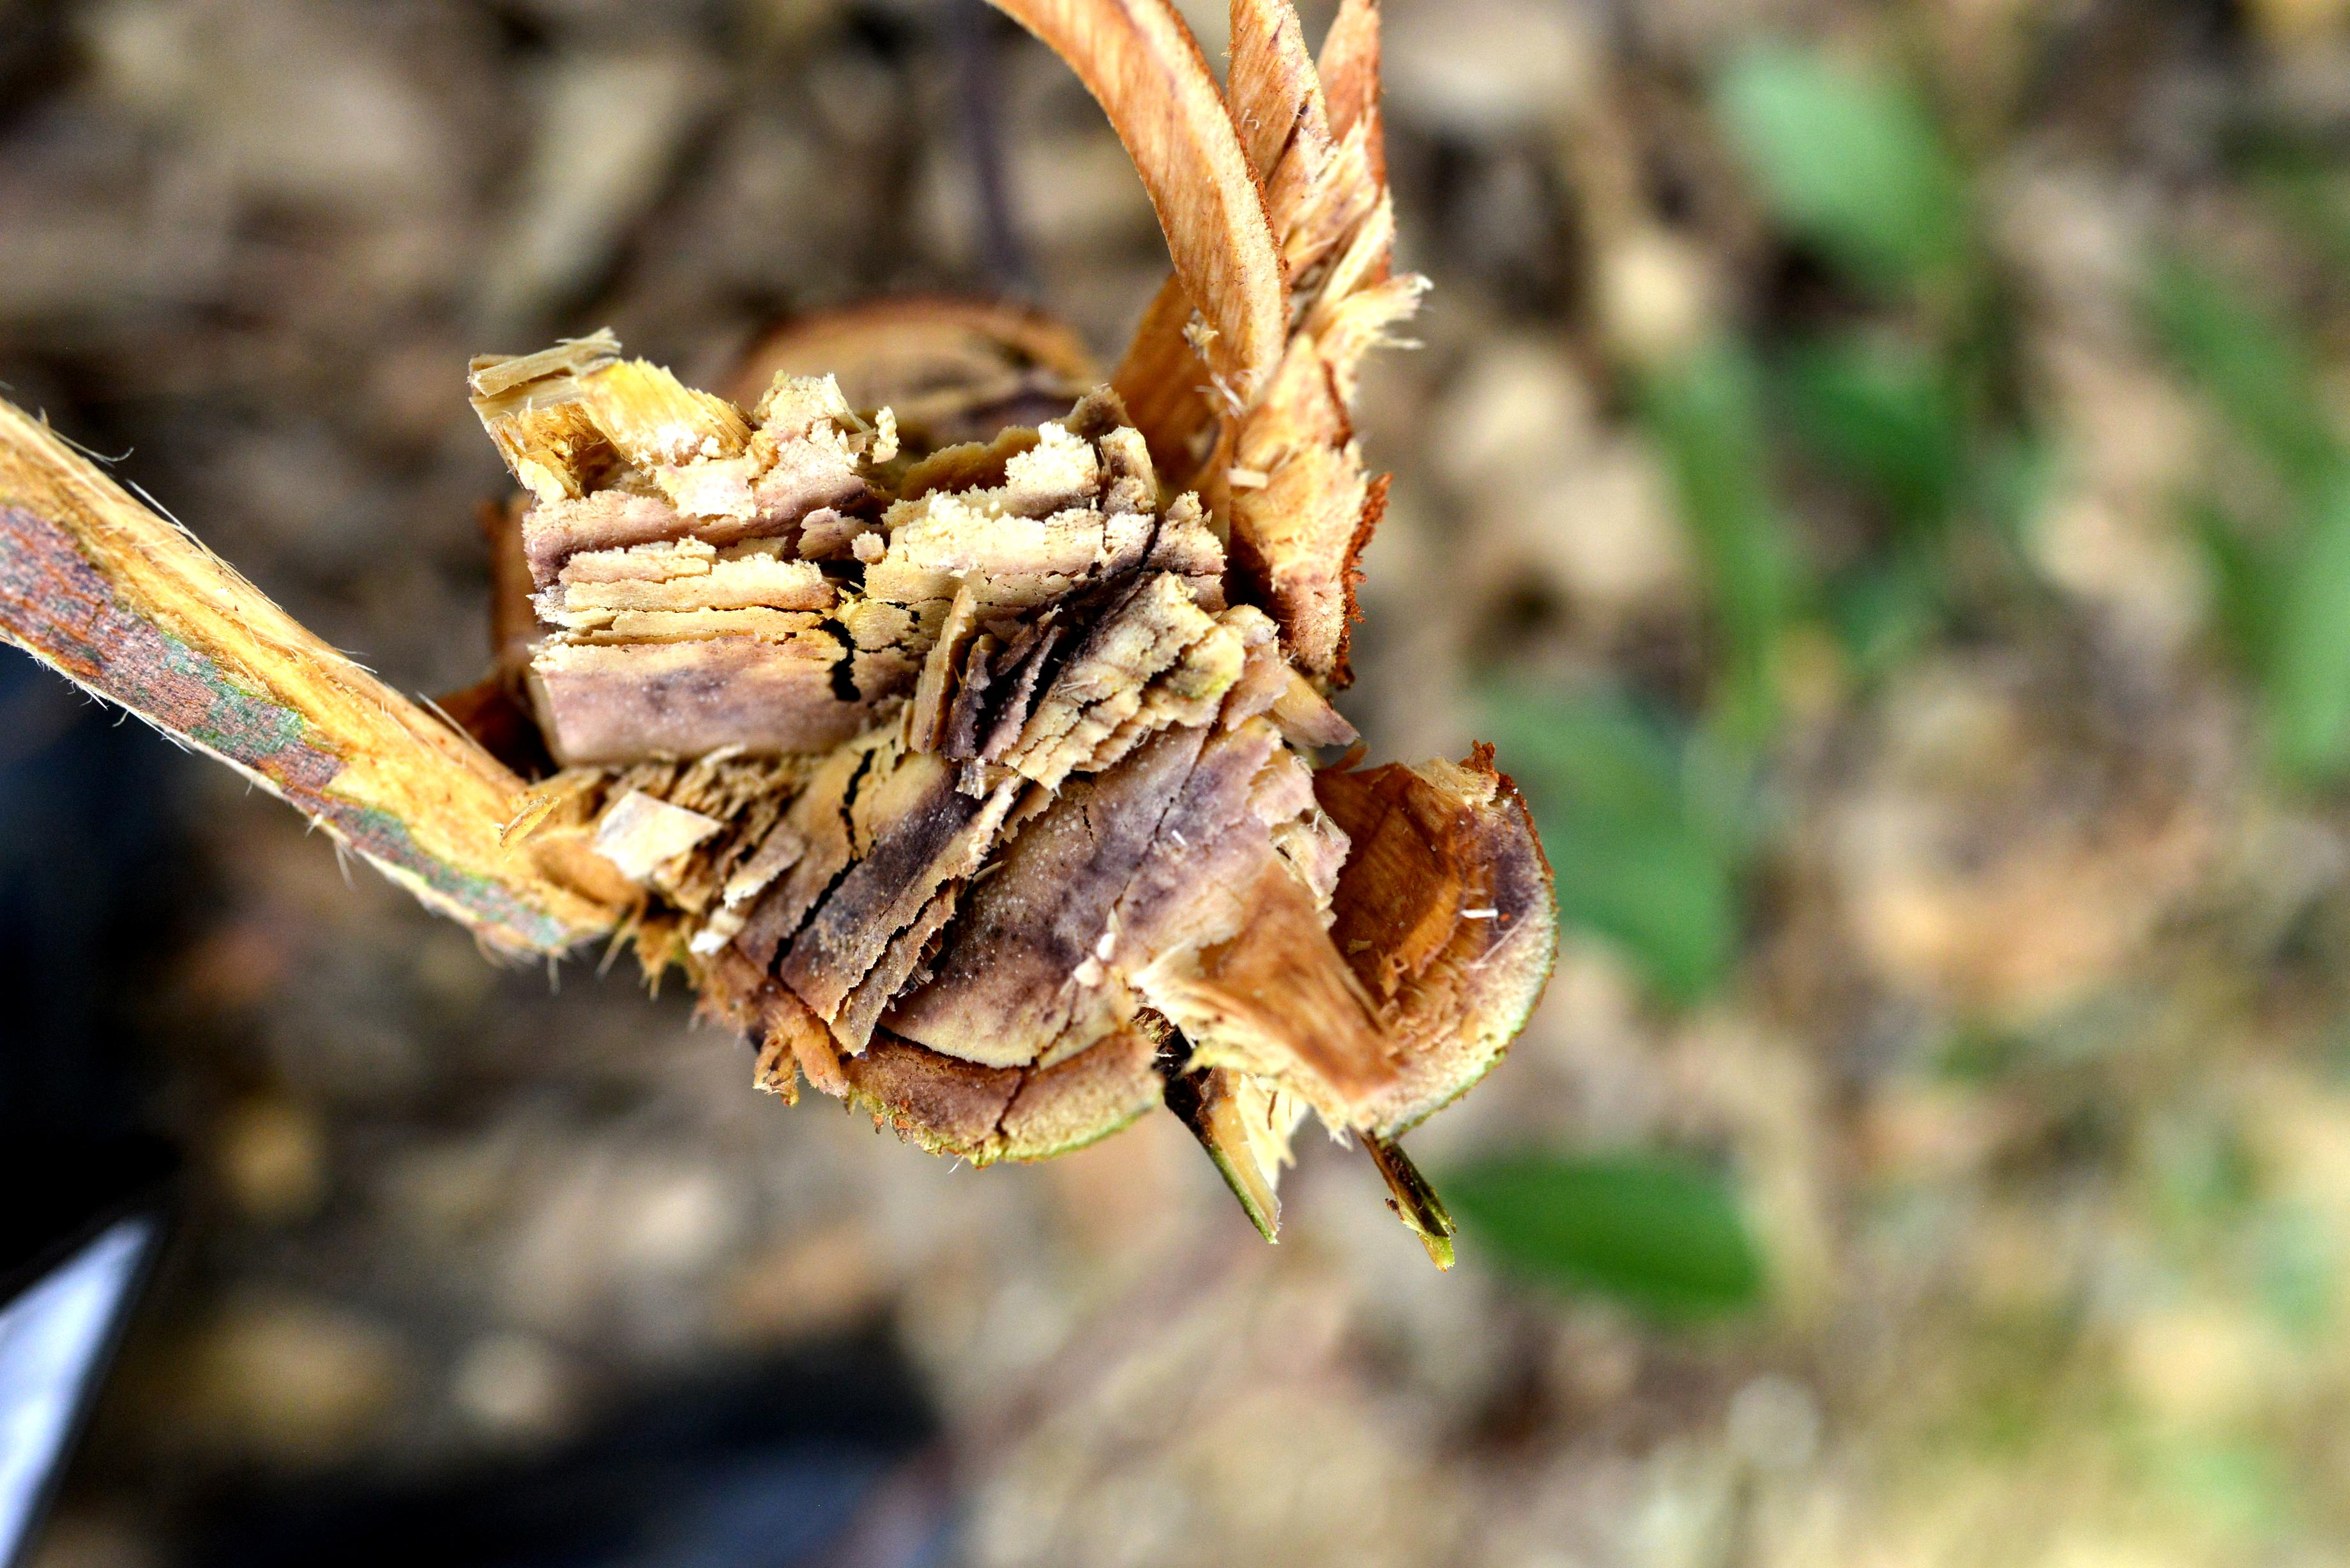Ralstonia: (770, 583, 1211, 1036), (1437, 791, 1549, 948), (600, 408, 724, 472)
